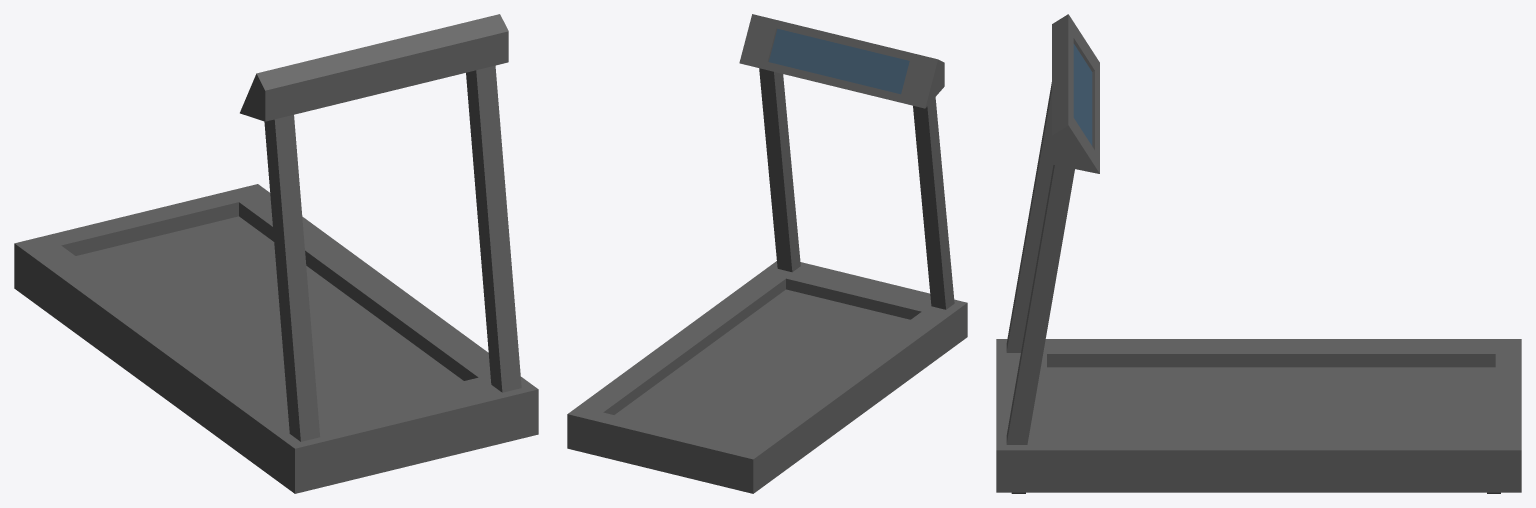
File: Treadmill_2_Main.fbx
3 views of the same model, side by side, from view 1: azimuth 30°, elevation 25°; view 2: azimuth 150°, elevation 25°; view 3: azimuth 270°, elevation 25° (orthographic). The views are drawn at different scales.
Visible parts, largest first — view 1: Treadmill_2_Main; view 2: Treadmill_2_Main; view 3: Treadmill_2_Main.
Part boxes in pixels (x1=…): Treadmill_2_Main: x1=14, y1=14, x2=538, y2=493; Treadmill_2_Main: x1=567, y1=14, x2=967, y2=493; Treadmill_2_Main: x1=996, y1=14, x2=1521, y2=493.
Bounding box in the file's own units: 87.78 × 137 × 175.
